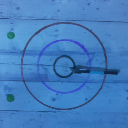Axe Tip: (69, 67, 79, 69)
